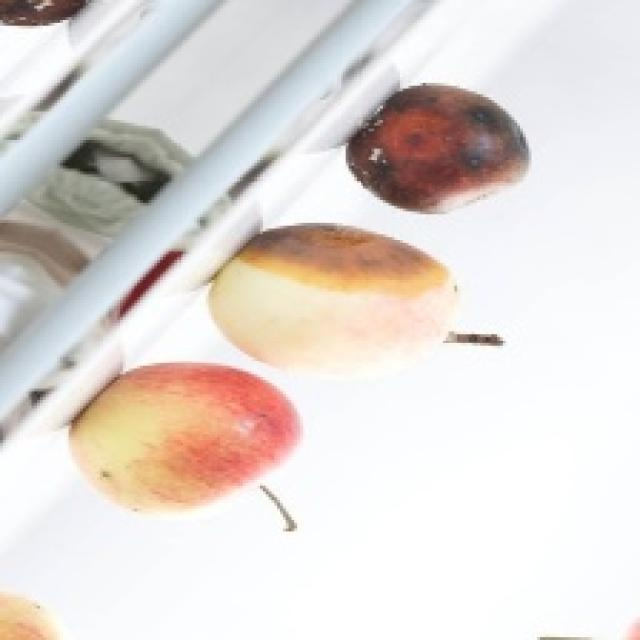apple: (208, 224, 456, 376), (70, 363, 299, 510), (346, 84, 528, 211)
